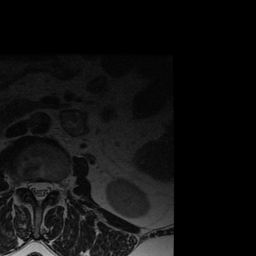CCS_normal: (36, 172, 44, 211)
LFS_normal: (53, 172, 61, 199)
LLS_normal: (44, 172, 53, 200)
RFS_normal: (18, 172, 27, 195)
RLS_normal: (27, 173, 36, 199)
